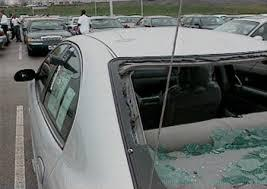Rear-windscreen-Damage: (121, 50, 266, 189)
